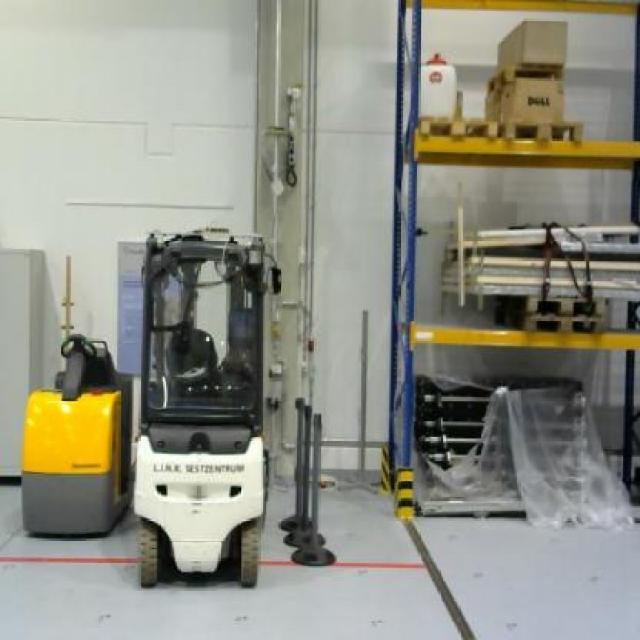box: (480, 78, 566, 126), (498, 16, 566, 67)
